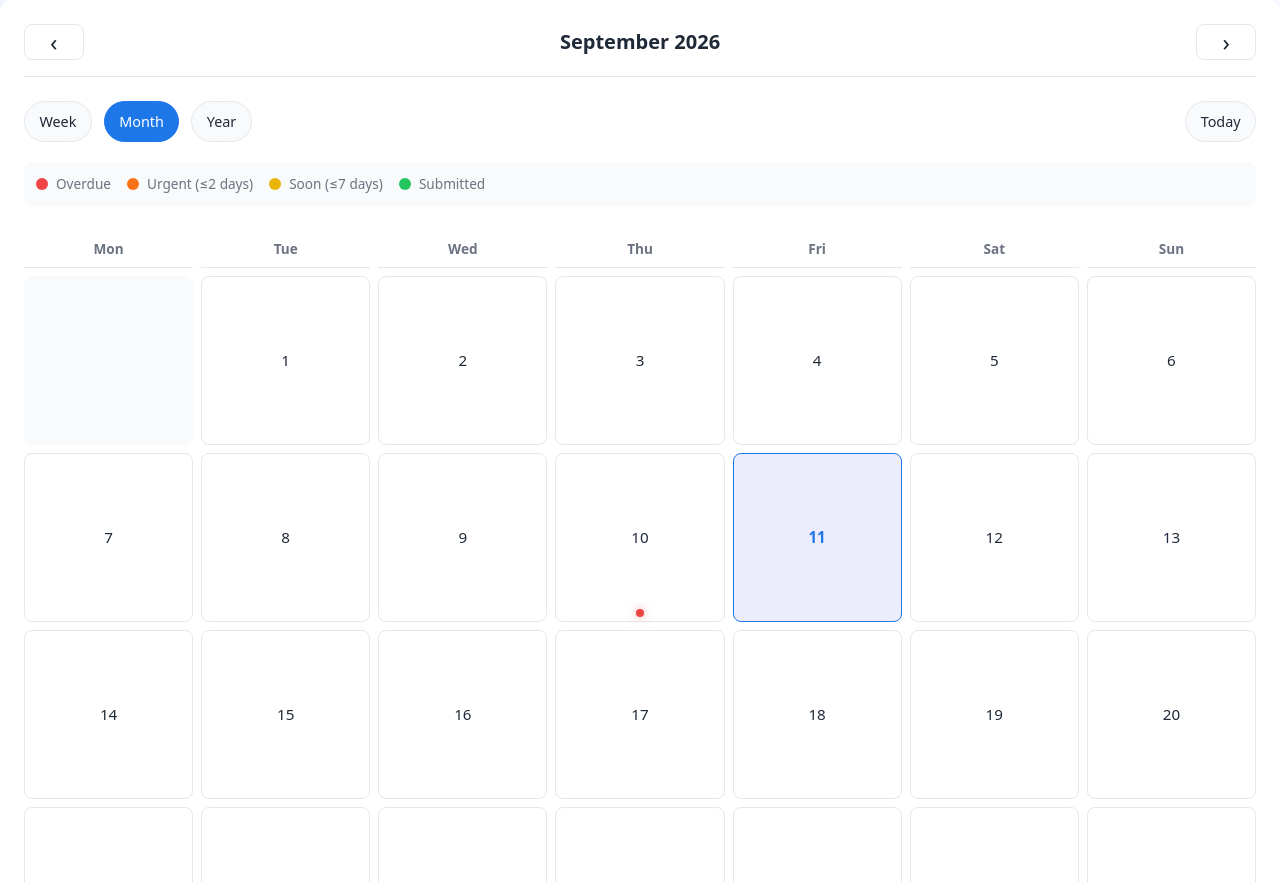
CalendarView Component › changes calendar view mode when buttons are clicked
Click the button "Week": point(58, 122) [24,101,92,142]
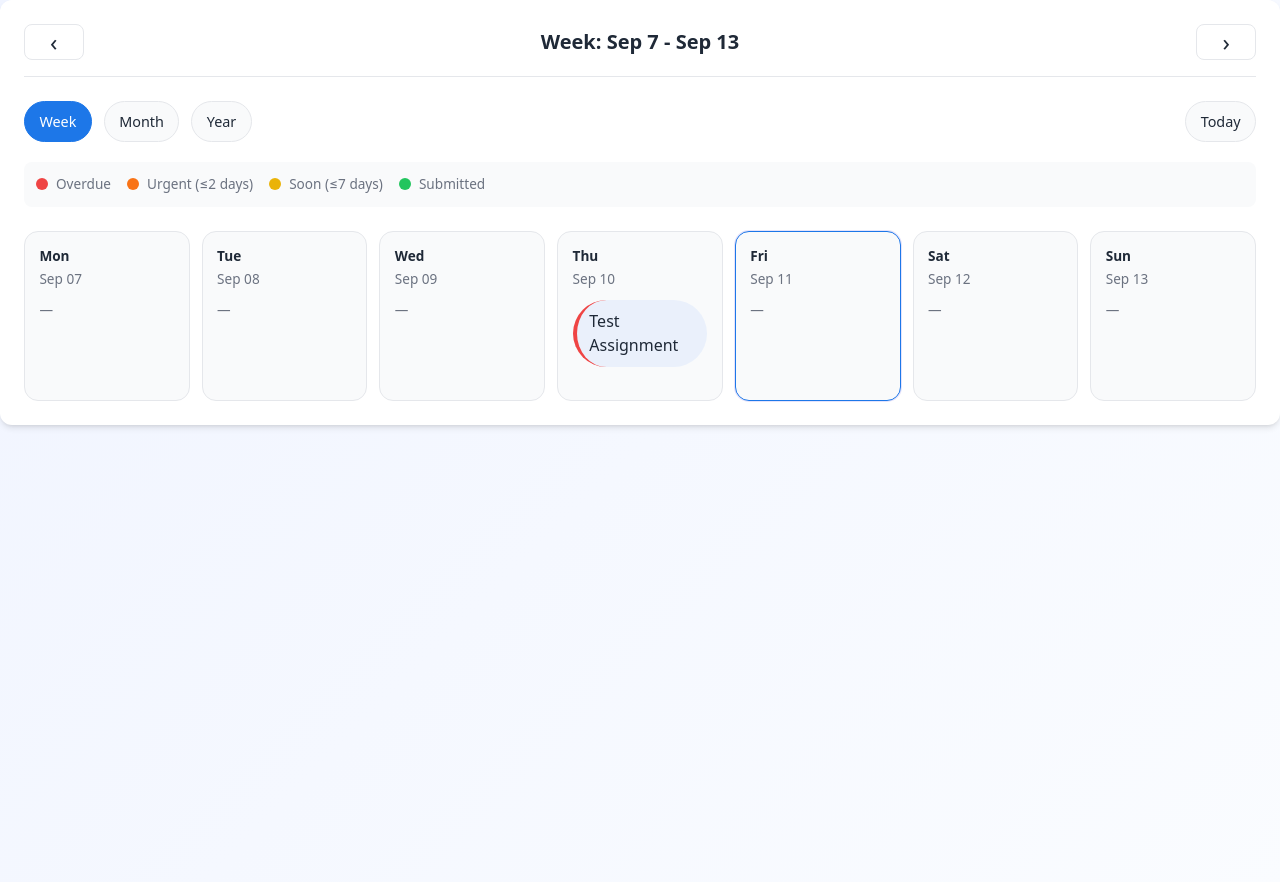
Expected: the heading shows "Week", [541,28,739,55]
Click the button "Year": point(221, 122) [191,101,252,142]
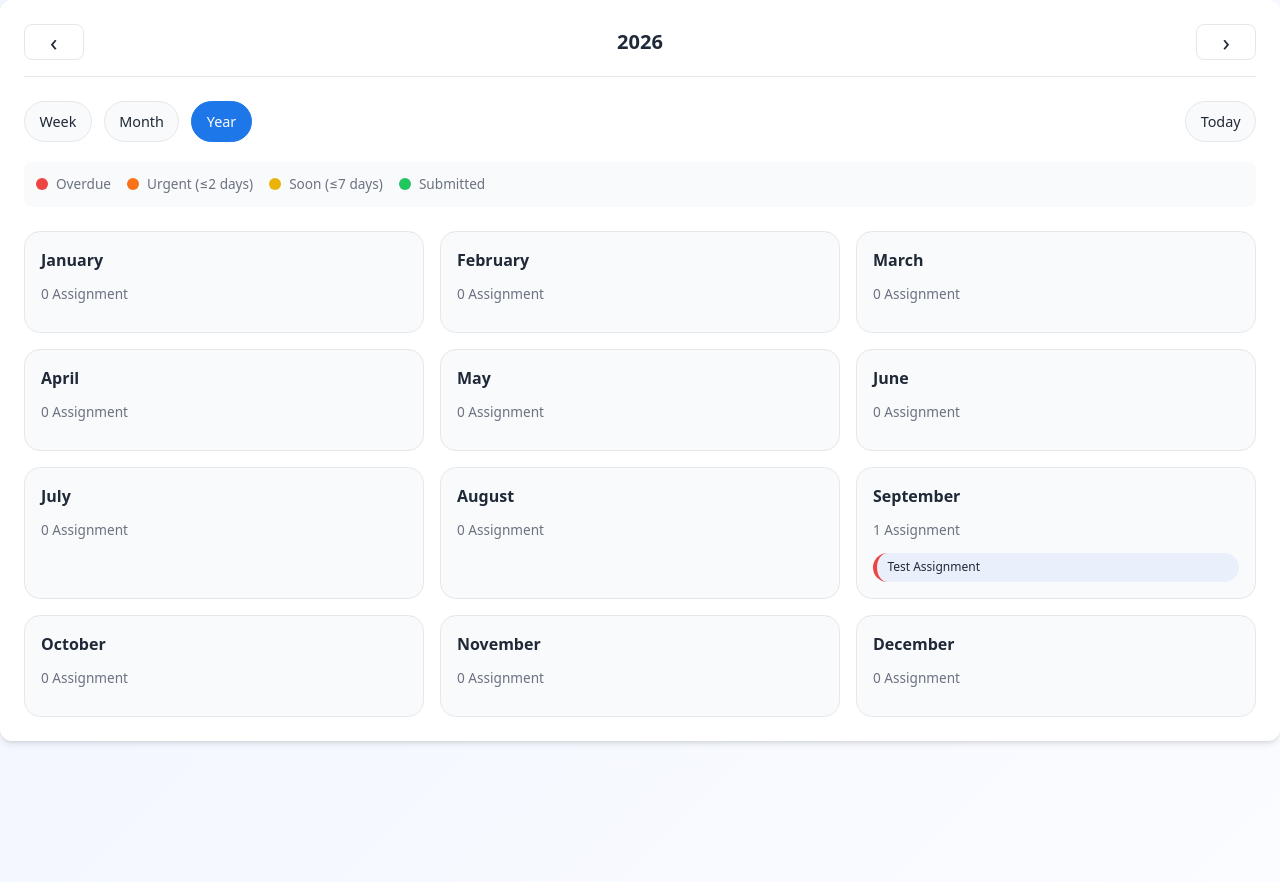
Expected: the heading shows "202", [617,30,663,54]
